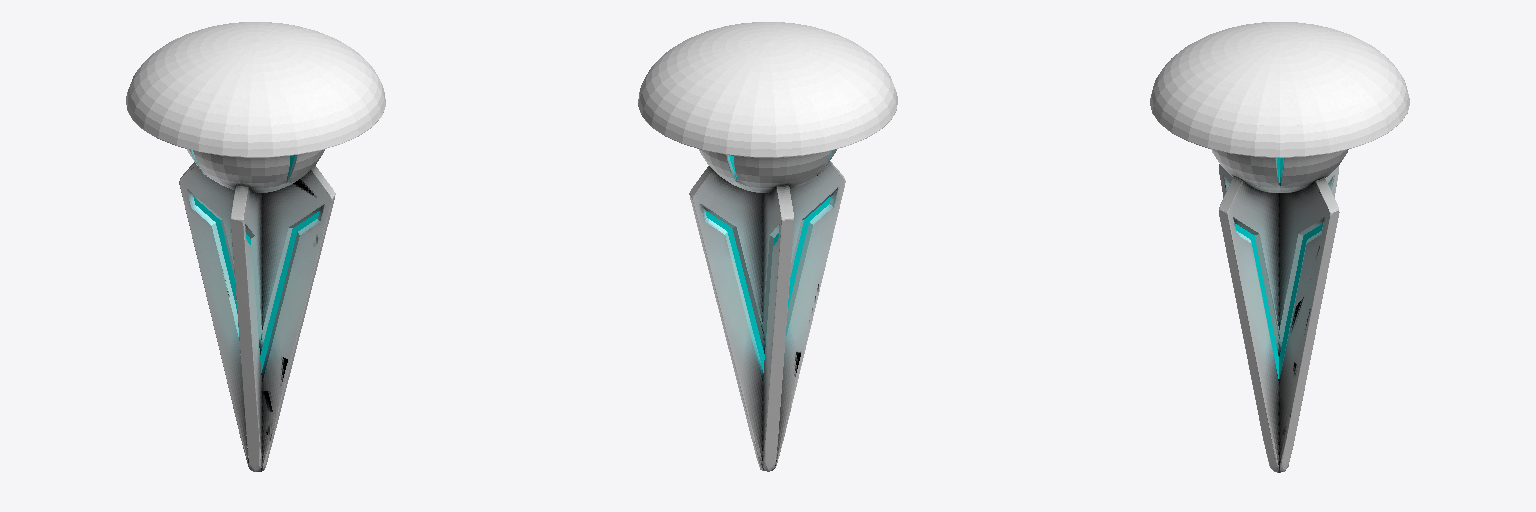
3 views of the same model, side by side, from view 1: azimuth 30°, elevation 25°; view 2: azimuth 150°, elevation 25°; view 3: azimuth 270°, elevation 25° (orthographic).
Visible parts, largest first — view 1: lanceur; view 2: lanceur; view 3: lanceur.
Part boxes in pixels (bbox=[...]): lanceur: bbox=[126, 22, 385, 471]; lanceur: bbox=[638, 22, 897, 471]; lanceur: bbox=[1150, 22, 1409, 472].
Size of the model in its own units: 140 by 253 by 140.
Materials: 1 (1 with a texture image).